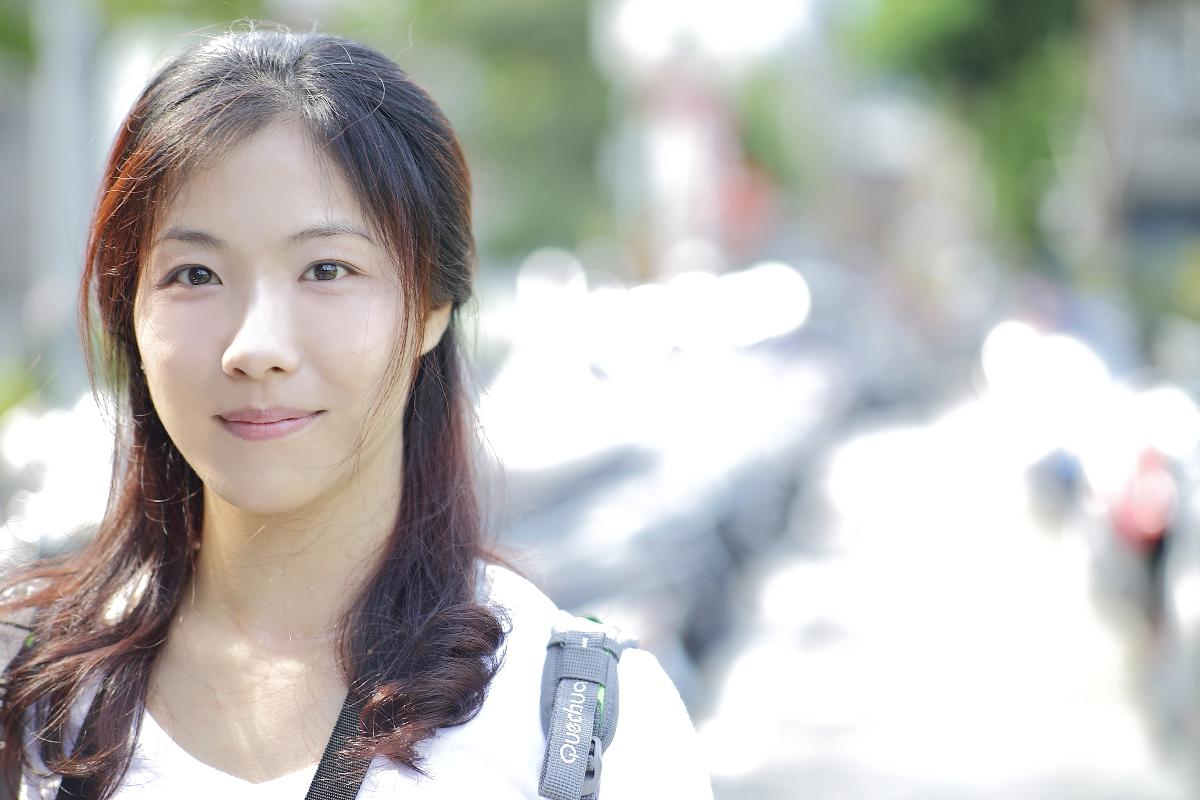Person: (9, 30, 714, 800)
